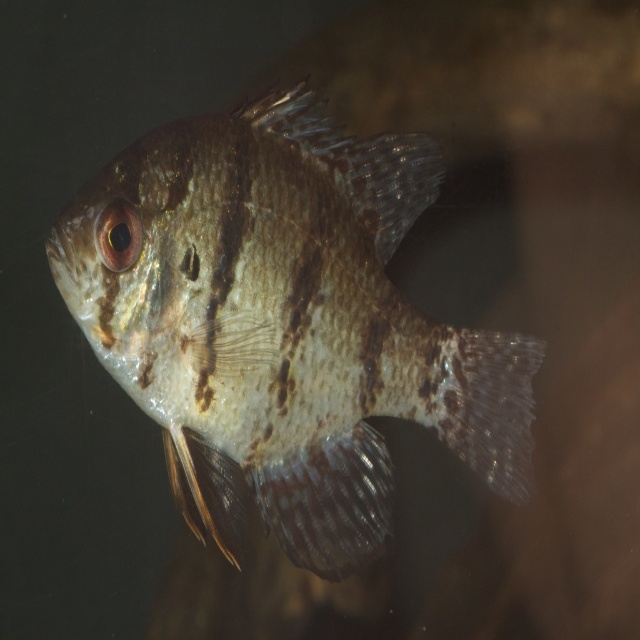Fish: (40, 77, 545, 579)
